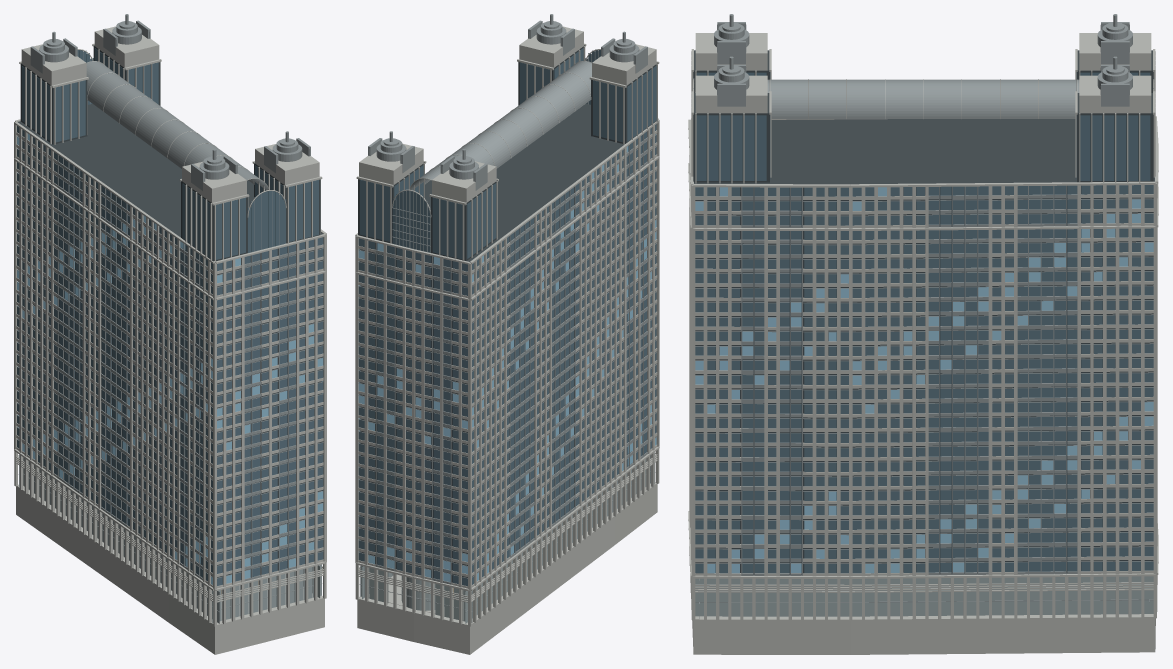
The model's file is wacker_225.glb.
3 renders of one model, left to right at view 1: azimuth 30°, elevation 25°; view 2: azimuth 150°, elevation 25°; view 3: azimuth 270°, elevation 25°, orthographic. The views are drawn at different scales.
Parts seen in each view (by area): view 1: Pale granite piers and coursed spandrels, Blue grey recessed vision glass, Grey window frames and crown metal, Roof and mechanical recesses, Night occupied vision glass, Clear renovated lobby glazing; view 2: Pale granite piers and coursed spandrels, Blue grey recessed vision glass, Grey window frames and crown metal, Roof and mechanical recesses, Night occupied vision glass, Clear renovated lobby glazing; view 3: Pale granite piers and coursed spandrels, Blue grey recessed vision glass, Grey window frames and crown metal, Roof and mechanical recesses, Clear renovated lobby glazing, Night occupied vision glass.
Boxes of the visible parts, box(x1,y1,x2,y2) form: Pale granite piers and coursed spandrels: box(14, 26, 326, 654); Blue grey recessed vision glass: box(17, 48, 323, 585); Grey window frames and crown metal: box(16, 14, 323, 612); Roof and mechanical recesses: box(18, 45, 322, 584); Night occupied vision glass: box(17, 133, 323, 584); Clear renovated lobby glazing: box(19, 454, 321, 623); Pale granite piers and coursed spandrels: box(355, 26, 659, 654); Blue grey recessed vision glass: box(358, 48, 656, 586); Grey window frames and crown metal: box(358, 14, 657, 612); Roof and mechanical recesses: box(358, 45, 656, 582); Night occupied vision glass: box(358, 134, 656, 581); Clear renovated lobby glazing: box(360, 452, 654, 623); Pale granite piers and coursed spandrels: box(688, 33, 1158, 654); Blue grey recessed vision glass: box(693, 72, 1153, 573); Grey window frames and crown metal: box(693, 14, 1154, 604); Roof and mechanical recesses: box(693, 50, 1154, 574); Clear renovated lobby glazing: box(695, 576, 1153, 618); Night occupied vision glass: box(695, 187, 1153, 573).
Bounding box in the file's own units: 34.8 × 134 × 98.1.
